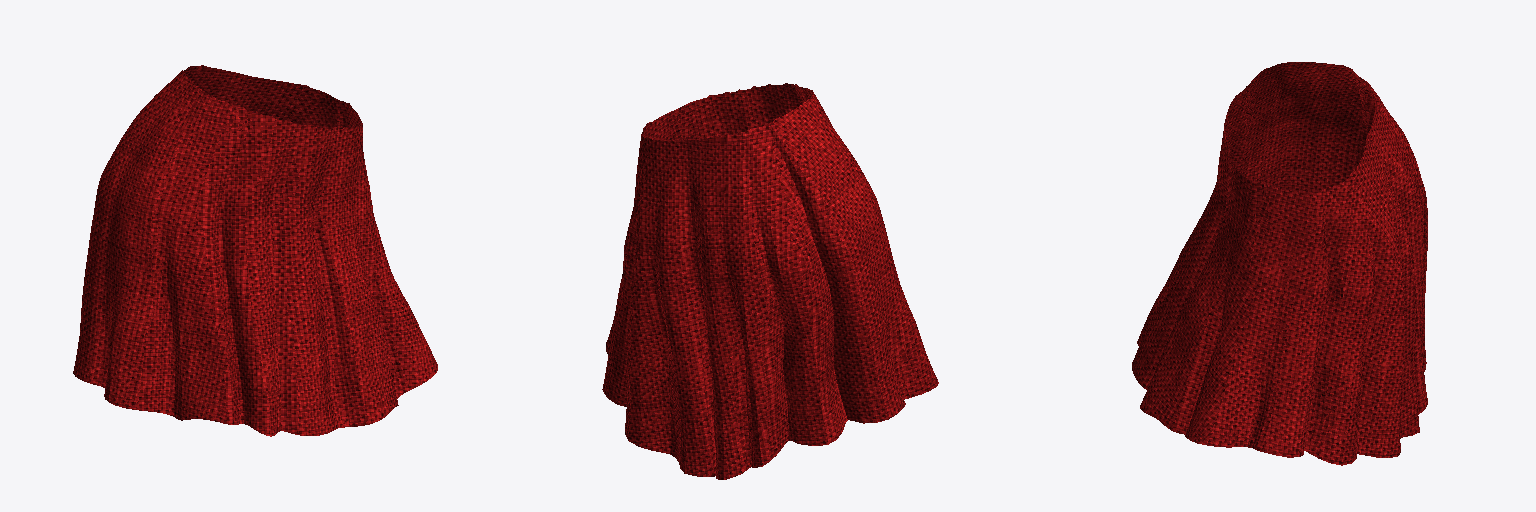
3 views of the same model, side by side, from view 1: azimuth 30°, elevation 25°; view 2: azimuth 150°, elevation 25°; view 3: azimuth 270°, elevation 25° (orthographic).
Visible parts, largest first — view 1: skirt; view 2: skirt; view 3: skirt.
Part boxes in pixels (left/top/right/bottom): skirt: left=73, top=65, right=437, bottom=436; skirt: left=602, top=83, right=938, bottom=479; skirt: left=1132, top=62, right=1427, bottom=465.
Size of the model in its own units: 16.8 by 17.41 by 13.65.
Materials: 1 (1 with a texture image).